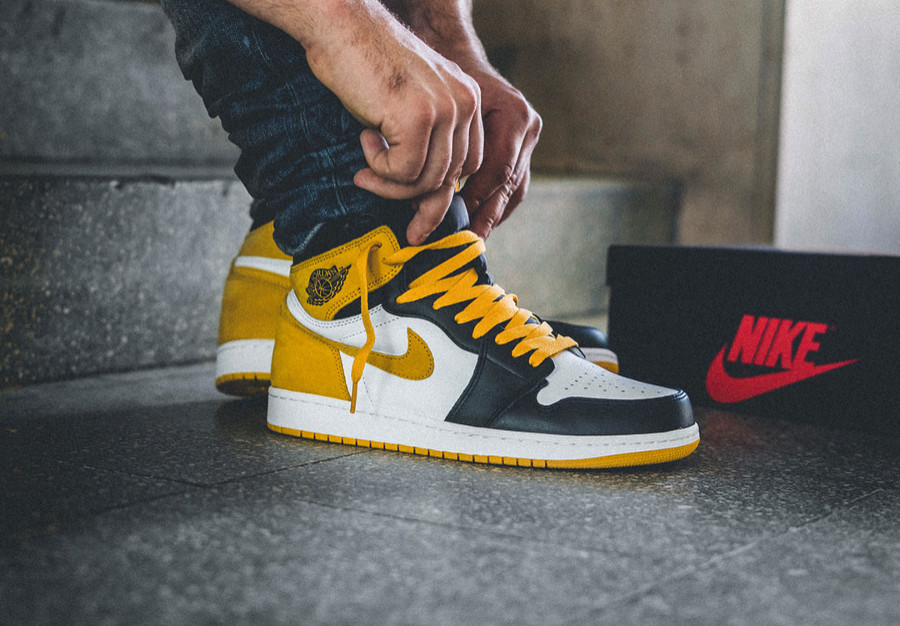Jordan 1: (262, 189, 711, 475)
